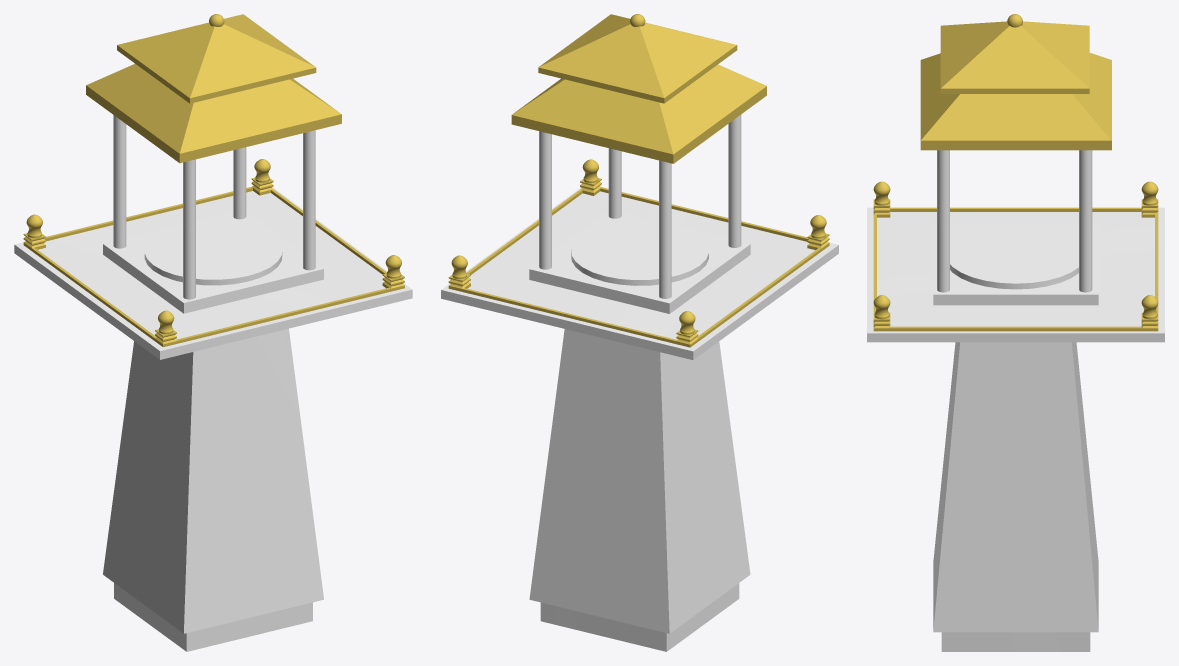
Rendered from Ghouse07.glb.
3 views of the same model, side by side, from view 1: azimuth 30°, elevation 25°; view 2: azimuth 150°, elevation 25°; view 3: azimuth 270°, elevation 25° (orthographic). The views are drawn at different scales.
Visible parts, largest first — view 1: Part1[121], Part3[128], Part5[255], Part7[277], Part9[284], Part4[131], sema2[160], sema2[212], sema2[134], sema2[186]; view 2: Part1[121], Part3[128], Part5[255], Part7[277], Part9[284], Part4[131], sema2[134], sema2[186], sema2[160], sema2[212]; view 3: Part1[121], Part3[128], Part5[255], Part7[277], Part9[284], Part4[131], sema2[134], sema2[160], sema2[186], sema2[212].
Boxes of the visible parts, left/top/right/bottom form: Part1[121]: left=103, top=328, right=323, bottom=651; Part3[128]: left=14, top=187, right=412, bottom=359; Part5[255]: left=103, top=115, right=323, bottom=313; Part7[277]: left=86, top=64, right=341, bottom=163; Part9[284]: left=117, top=14, right=316, bottom=103; Part4[131]: left=31, top=187, right=390, bottom=343; sema2[160]: left=155, top=310, right=176, bottom=347; sema2[212]: left=382, top=255, right=404, bottom=291; sema2[134]: left=23, top=214, right=45, bottom=250; sema2[186]: left=251, top=159, right=273, bottom=195; Part1[121]: left=529, top=329, right=750, bottom=651; Part3[128]: left=441, top=187, right=838, bottom=359; Part5[255]: left=529, top=114, right=750, bottom=313; Part7[277]: left=511, top=64, right=766, bottom=163; Part9[284]: left=538, top=14, right=737, bottom=103; Part4[131]: left=462, top=187, right=821, bottom=343; sema2[134]: left=676, top=311, right=698, bottom=347; sema2[186]: left=448, top=255, right=470, bottom=291; sema2[160]: left=807, top=215, right=829, bottom=251; sema2[212]: left=580, top=159, right=601, bottom=195; Part1[121]: left=933, top=342, right=1098, bottom=651; Part3[128]: left=867, top=207, right=1164, bottom=342; Part5[255]: left=933, top=150, right=1098, bottom=305; Part7[277]: left=920, top=53, right=1111, bottom=150; Part9[284]: left=940, top=21, right=1089, bottom=93; Part4[131]: left=873, top=207, right=1158, bottom=331; sema2[134]: left=1141, top=181, right=1158, bottom=217; sema2[160]: left=873, top=181, right=890, bottom=217; sema2[186]: left=1141, top=295, right=1158, bottom=328; sema2[212]: left=873, top=295, right=890, bottom=328.
Bounding box in the file's own units: 0.009 × 0.0203 × 0.009.
5 materials, 3 textured.
